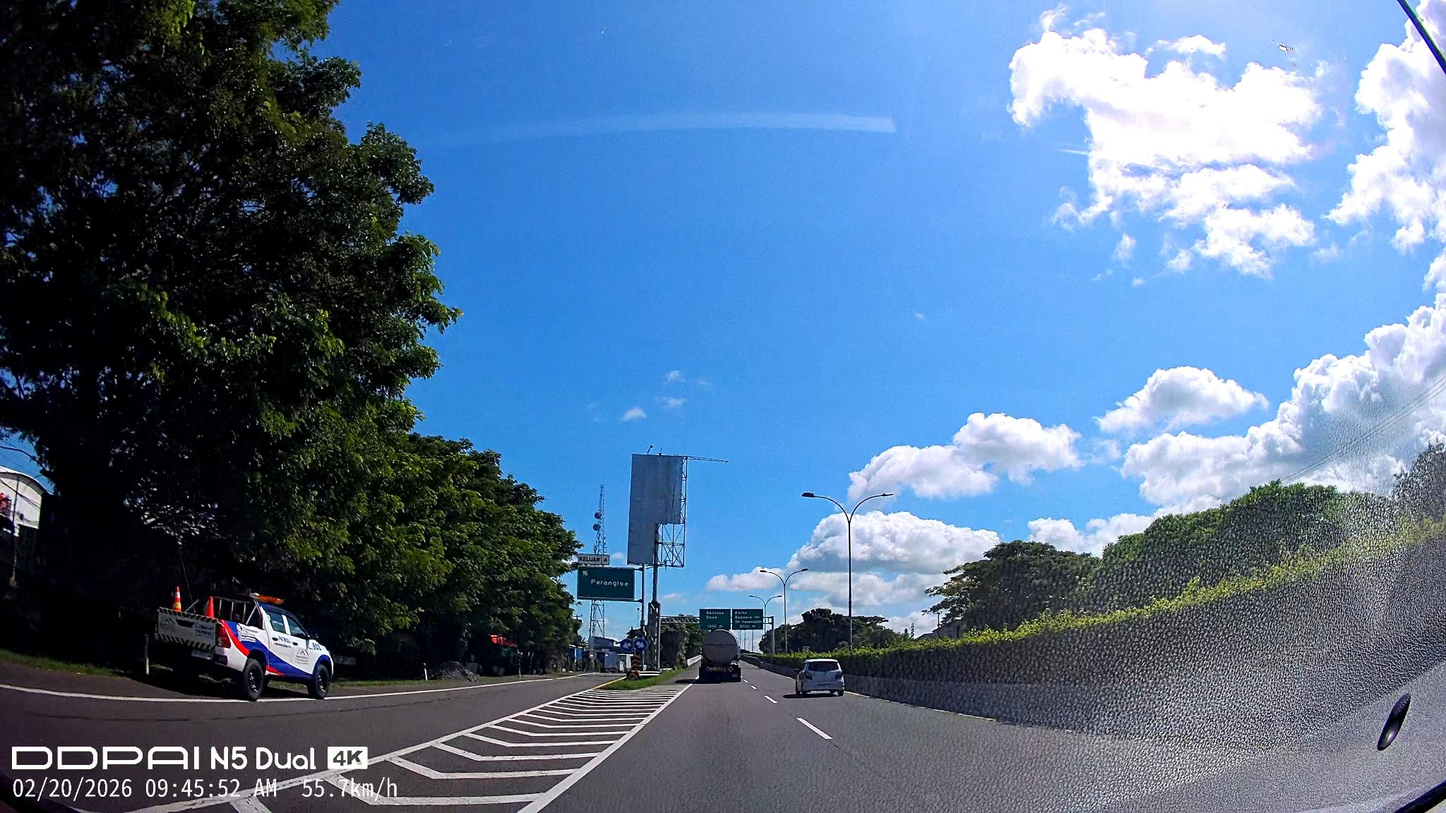rambu_teks: (576, 565, 636, 601)
